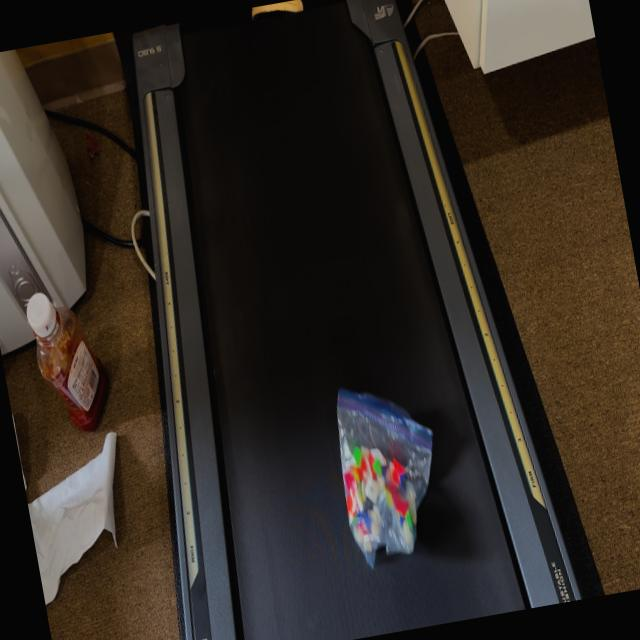Trash: (322, 376, 458, 576)
